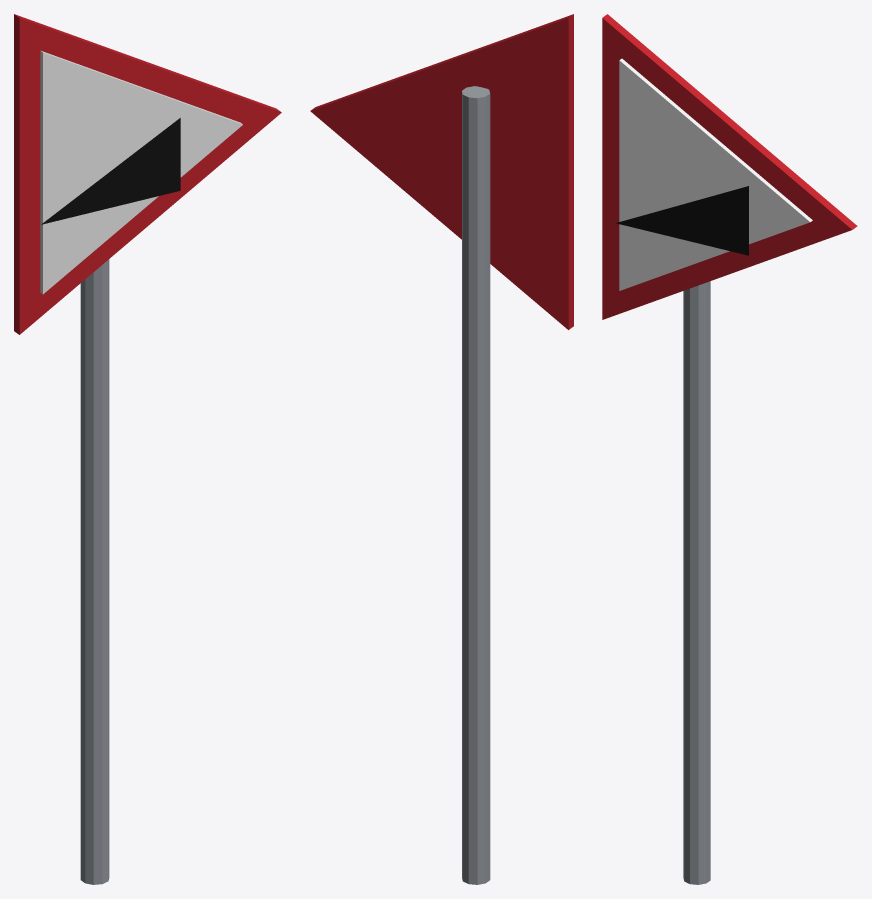
File: schild_steigung.glb
3 renders of one model, left to right at view 1: azimuth 30°, elevation 25°; view 2: azimuth 150°, elevation 25°; view 3: azimuth 330°, elevation 25°, orthographic. The views are drawn at different scales.
Visible parts, largest first — view 1: Cylinder.001, Cylinder, pfahl, keil; view 2: Cylinder, pfahl; view 3: Cylinder.001, Cylinder, pfahl, keil.
Boxes of the visible parts, left/top/right/bottom form: Cylinder.001: left=40, top=50, right=242, bottom=294; Cylinder: left=14, top=14, right=281, bottom=334; pfahl: left=80, top=259, right=109, bottom=884; keil: left=41, top=118, right=180, bottom=224; Cylinder: left=310, top=14, right=573, bottom=329; pfahl: left=462, top=86, right=490, bottom=884; Cylinder.001: left=619, top=58, right=812, bottom=290; Cylinder: left=602, top=14, right=857, bottom=319; pfahl: left=683, top=281, right=710, bottom=884; keil: left=616, top=186, right=748, bottom=255.
Size of the model in its own units: 0.825 by 2.68 by 0.125.
